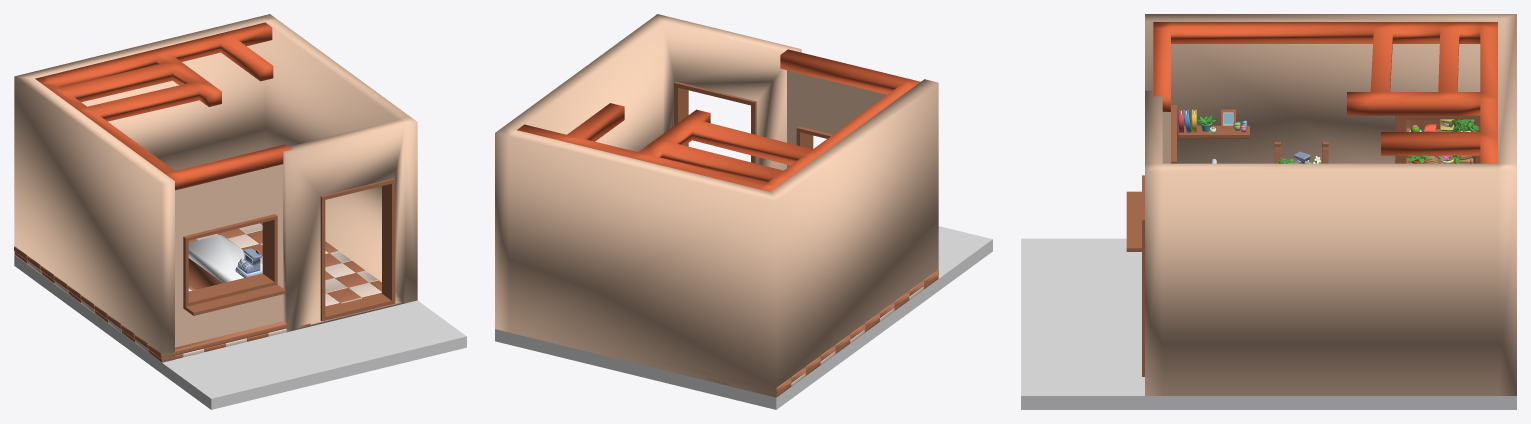
Rendered from PlantShop.fbx.
The picture shows the model from 3 angles, left to right: view 1: azimuth 30°, elevation 25°; view 2: azimuth 150°, elevation 25°; view 3: azimuth 270°, elevation 25°; orthographic projection. The views are drawn at different scales.
Visible parts, largest first — view 1: Wall, Floor, Pole, Wall_Window, Floor_Checkerboard, DoorFrame, Window, _Test.008, Floor_Wood, Window.001, Cash; view 2: Wall, Pole, Floor, Wall_Window, DoorFrame, Floor_Wood, Floor_Checkerboard, Window; view 3: Wall, Floor, Pole, Shelf, Window.001, Shelf_01, DoorFrame, Wall_Window.
Part boxes in pixels (bbox=[...]): Wall: bbox=[14, 14, 417, 362]; Floor: bbox=[14, 255, 466, 409]; Pole: bbox=[35, 22, 292, 190]; Wall_Window: bbox=[175, 164, 283, 347]; Floor_Checkerboard: bbox=[14, 222, 398, 362]; DoorFrame: bbox=[320, 178, 395, 321]; Window: bbox=[183, 214, 277, 306]; _Test.008: bbox=[188, 234, 262, 289]; Floor_Wood: bbox=[14, 246, 286, 358]; Window.001: bbox=[183, 284, 285, 315]; Cash: bbox=[235, 248, 262, 277]; Wall: bbox=[495, 14, 938, 397]; Pole: bbox=[517, 49, 920, 191]; Floor: bbox=[495, 226, 992, 409]; Wall_Window: bbox=[787, 70, 886, 167]; DoorFrame: bbox=[674, 81, 756, 163]; Floor_Wood: bbox=[677, 269, 938, 392]; Floor_Checkerboard: bbox=[697, 275, 938, 396]; Window: bbox=[796, 126, 832, 149]; Wall: bbox=[1145, 14, 1516, 395]; Floor: bbox=[1021, 238, 1516, 409]; Pole: bbox=[1153, 22, 1497, 163]; Shelf: bbox=[1395, 115, 1480, 163]; Window.001: bbox=[1126, 191, 1141, 251]; Shelf_01: bbox=[1178, 125, 1249, 138]; DoorFrame: bbox=[1142, 175, 1144, 376]; Wall_Window: bbox=[1162, 112, 1170, 163].
Size of the model in its own units: 602 by 425 by 800.
